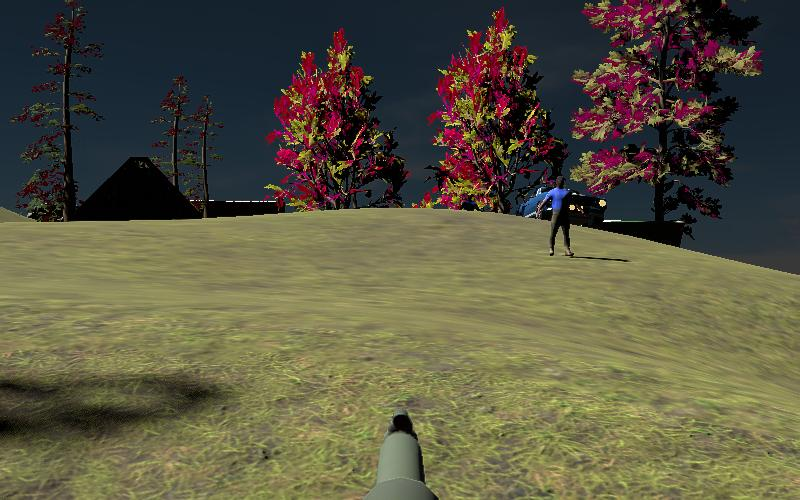House: (67, 154, 199, 224)
Human: (537, 175, 585, 257), (537, 177, 586, 255)
